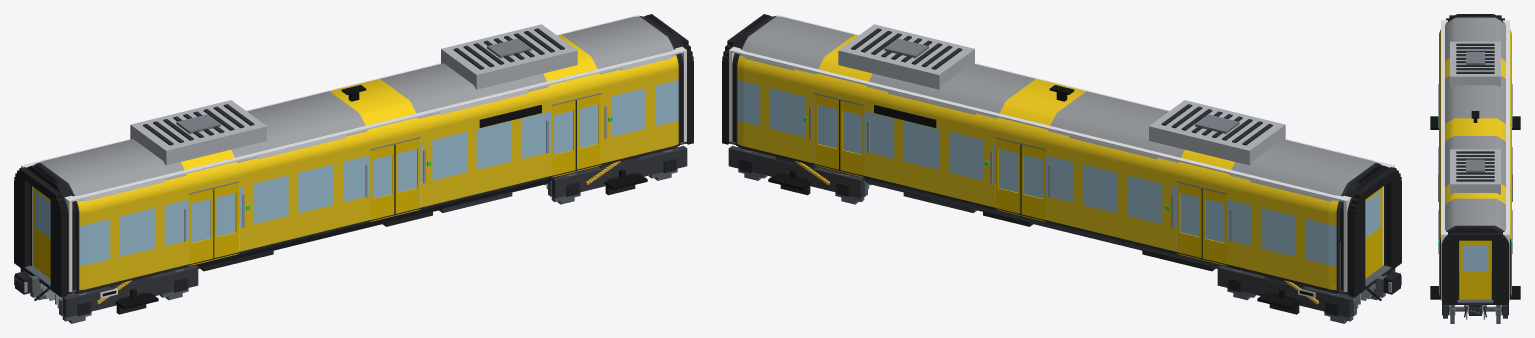
The model's file is berlin_ik_car.obj.
3 views of the same model, side by side, from view 1: azimuth 30°, elevation 25°; view 2: azimuth 150°, elevation 25°; view 3: azimuth 270°, elevation 25° (orthographic). The views are drawn at different scales.
Visible parts, largest first — view 1: SHELL, SHELL_roof, SHELL_diaphragm, SHELL_ceiling, BOGEY_FRONT, BOGEY_REAR, EXTERNAL_DOOR_10_CG_DR2_TOGGLE_TL_-0.59_X, EXTERNAL_DOOR_11_CG_DR2_TOGGLE_TL_0.59_X, EXTERNAL_DOOR_4_CG_DR1_TOGGLE_TL_-0.59_X, EXTERNAL_DOOR_16_CG_DR3_TOGGLE_TL_-0.59_X, EXTERNAL_DOOR_17_CG_DR3_TOGGLE_TL_0.59_X, EXTERNAL_DOOR_5_CG_DR1_TOGGLE_TL_0.59_X (+7 smaller); view 2: SHELL, SHELL_roof, SHELL_diaphragm, SHELL_ceiling, BOGEY_FRONT, BOGEY_REAR, EXTERNAL_DOOR_13_CG_DL2_TOGGLE_TL_-0.59_X, EXTERNAL_DOOR_14_CG_DL2_TOGGLE_TL_0.59_X, EXTERNAL_DOOR_7_CG_DL1_TOGGLE_TL_-0.59_X, EXTERNAL_DOOR_19_CG_DL3_TOGGLE_TL_-0.59_X, EXTERNAL_DOOR_20_CG_DL3_TOGGLE_TL_0.59_X, EXTERNAL_DOOR_8_CG_DL1_TOGGLE_TL_0.59_X (+7 smaller); view 3: SHELL, SHELL_roof, SHELL_diaphragm, CONNECTING_DOOR_2_CG_CF_TOGGLE_TL_0.98_Z, SHELL_ceiling, BOGEY_FRONT, BOGEY_FRONT_WHEEL_2, SHELL_end, BOGEY_REAR, FRAME, SHELL_handle, SHELL_gangway (+1 smaller).
Part boxes in pixels (x1,y1,x2,y2): SHELL: [27, 14, 688, 294]; SHELL_roof: [130, 24, 577, 165]; SHELL_diaphragm: [14, 14, 693, 297]; SHELL_ceiling: [24, 15, 684, 201]; BOGEY_FRONT: [551, 145, 687, 198]; BOGEY_REAR: [20, 265, 198, 317]; EXTERNAL_DOOR_10_CG_DR2_TOGGLE_TL_-0.59_X: [370, 144, 395, 219]; EXTERNAL_DOOR_11_CG_DR2_TOGGLE_TL_0.59_X: [395, 138, 420, 213]; EXTERNAL_DOOR_4_CG_DR1_TOGGLE_TL_-0.59_X: [189, 189, 214, 264]; EXTERNAL_DOOR_16_CG_DR3_TOGGLE_TL_-0.59_X: [551, 100, 576, 175]; EXTERNAL_DOOR_17_CG_DR3_TOGGLE_TL_0.59_X: [577, 94, 601, 169]; EXTERNAL_DOOR_5_CG_DR1_TOGGLE_TL_0.59_X: [214, 182, 238, 257]; SHELL: [727, 14, 1388, 294]; SHELL_roof: [838, 24, 1285, 165]; SHELL_diaphragm: [722, 14, 1401, 297]; SHELL_ceiling: [731, 15, 1391, 201]; BOGEY_FRONT: [728, 145, 864, 198]; BOGEY_REAR: [1217, 265, 1395, 317]; EXTERNAL_DOOR_13_CG_DL2_TOGGLE_TL_-0.59_X: [1020, 144, 1045, 219]; EXTERNAL_DOOR_14_CG_DL2_TOGGLE_TL_0.59_X: [995, 138, 1020, 213]; EXTERNAL_DOOR_7_CG_DL1_TOGGLE_TL_-0.59_X: [1201, 189, 1226, 264]; EXTERNAL_DOOR_19_CG_DL3_TOGGLE_TL_-0.59_X: [839, 100, 864, 175]; EXTERNAL_DOOR_20_CG_DL3_TOGGLE_TL_0.59_X: [814, 94, 838, 169]; EXTERNAL_DOOR_8_CG_DL1_TOGGLE_TL_0.59_X: [1177, 182, 1201, 257]; SHELL: [1439, 14, 1511, 300]; SHELL_roof: [1450, 41, 1500, 194]; SHELL_diaphragm: [1442, 15, 1508, 304]; CONNECTING_DOOR_2_CG_CF_TOGGLE_TL_0.98_Z: [1459, 240, 1491, 299]; SHELL_ceiling: [1441, 21, 1509, 233]; BOGEY_FRONT: [1430, 286, 1520, 318]; BOGEY_FRONT_WHEEL_2: [1449, 305, 1501, 323]; SHELL_end: [1441, 14, 1509, 299]; BOGEY_REAR: [1430, 116, 1520, 129]; FRAME: [1464, 302, 1486, 317]; SHELL_handle: [1438, 84, 1512, 253]; SHELL_gangway: [1457, 298, 1493, 302].
Size of the model in its own units: 17.24 by 3.76 by 2.84.
1 material, 1 textured.
